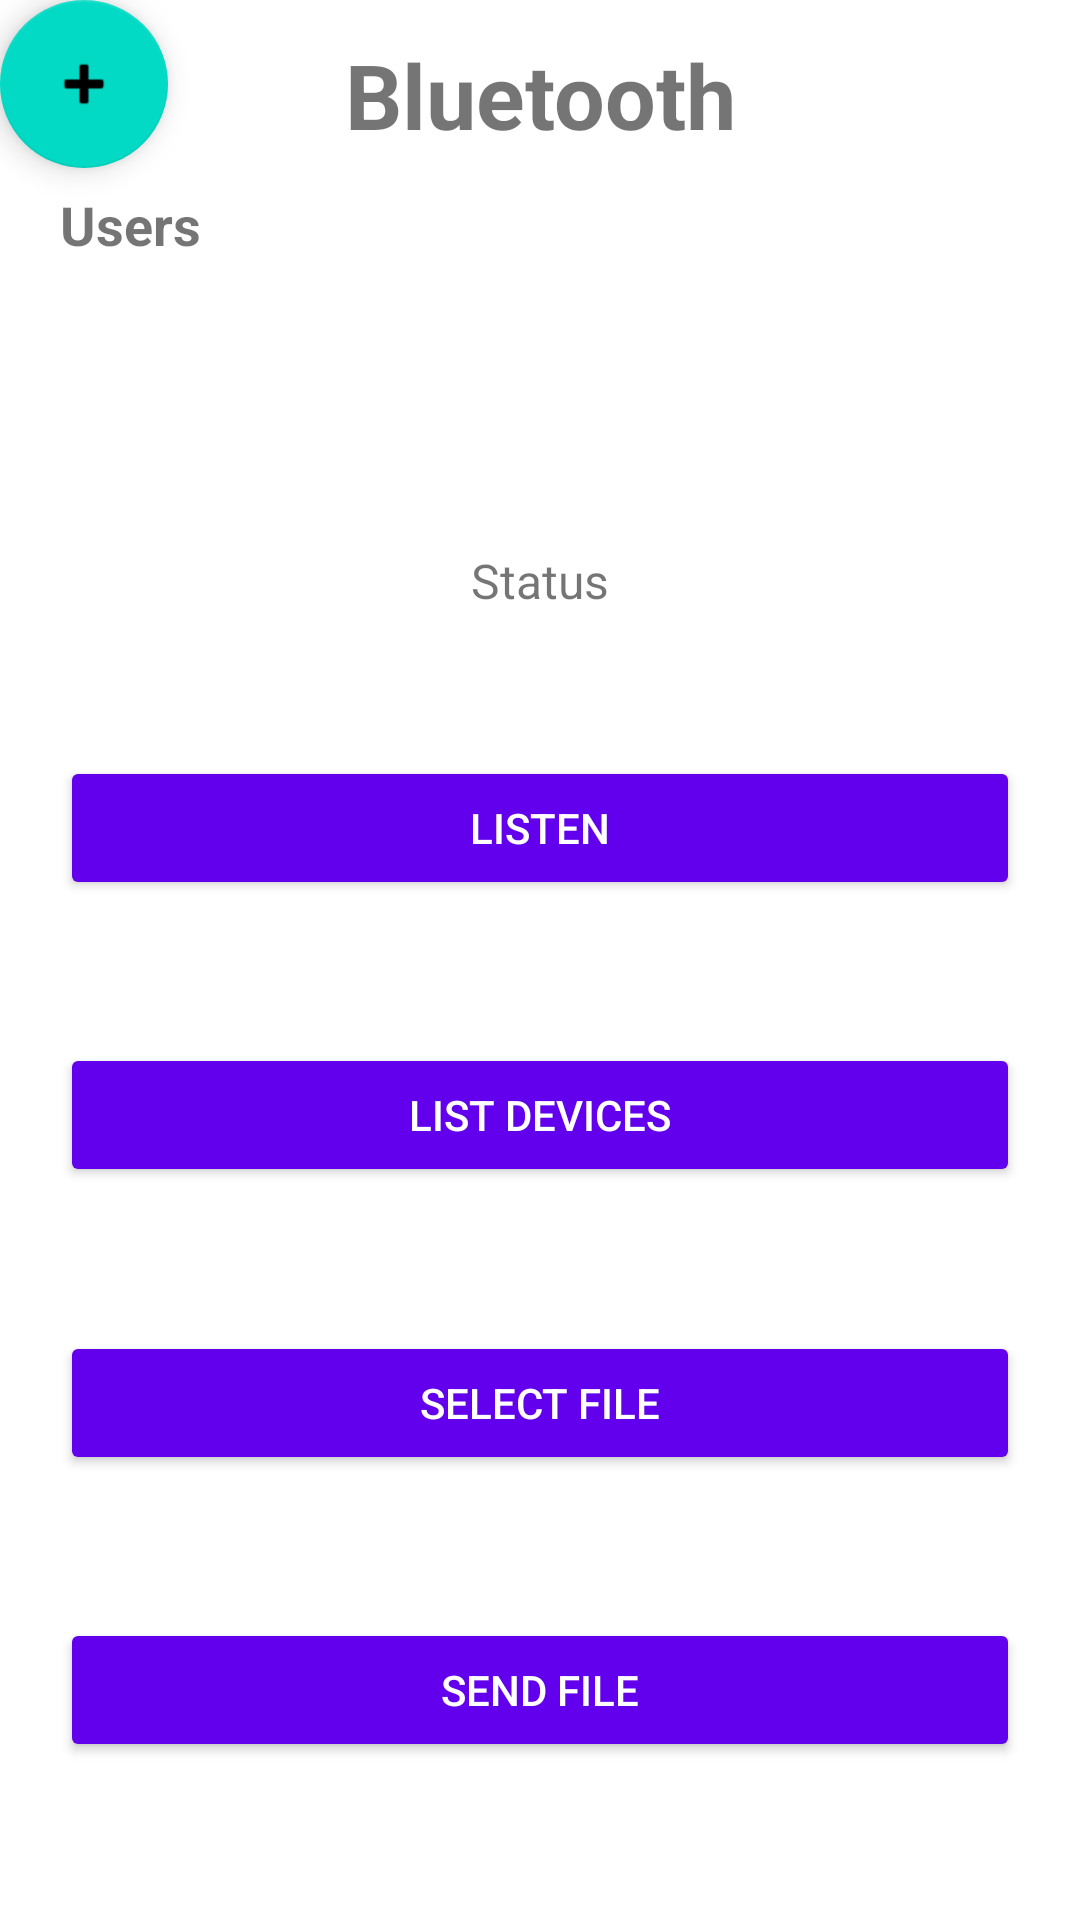

Icon click points for this 1080px×1920px phone screenshot, format [x,y]:
Floating Action Button: [84,84]
